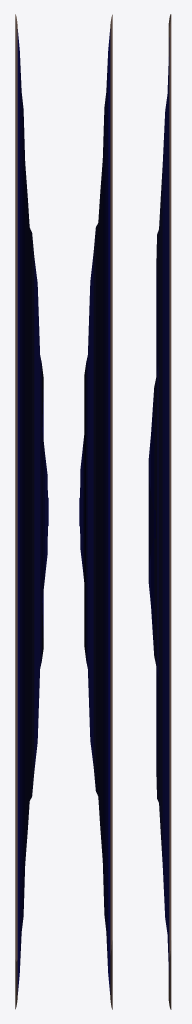
File: blue_flag_222x09.gltf
The picture shows the model from 3 angles, left to right: view 1: azimuth 30°, elevation 25°; view 2: azimuth 210°, elevation 25°; view 3: azimuth 270°, elevation 25°; orthographic projection.
Parts seen in each view (by area): view 1: blue_flag_222x09; view 2: blue_flag_222x09; view 3: blue_flag_222x09.
Boxes of the visible parts, bbox=[...] form: blue_flag_222x09: bbox=[15, 14, 48, 1009]; blue_flag_222x09: bbox=[79, 14, 112, 1009]; blue_flag_222x09: bbox=[148, 14, 171, 1009].
Size of the model in its own units: 0.0546 by 1.97 by 0.0401.
1 material, 1 textured.
